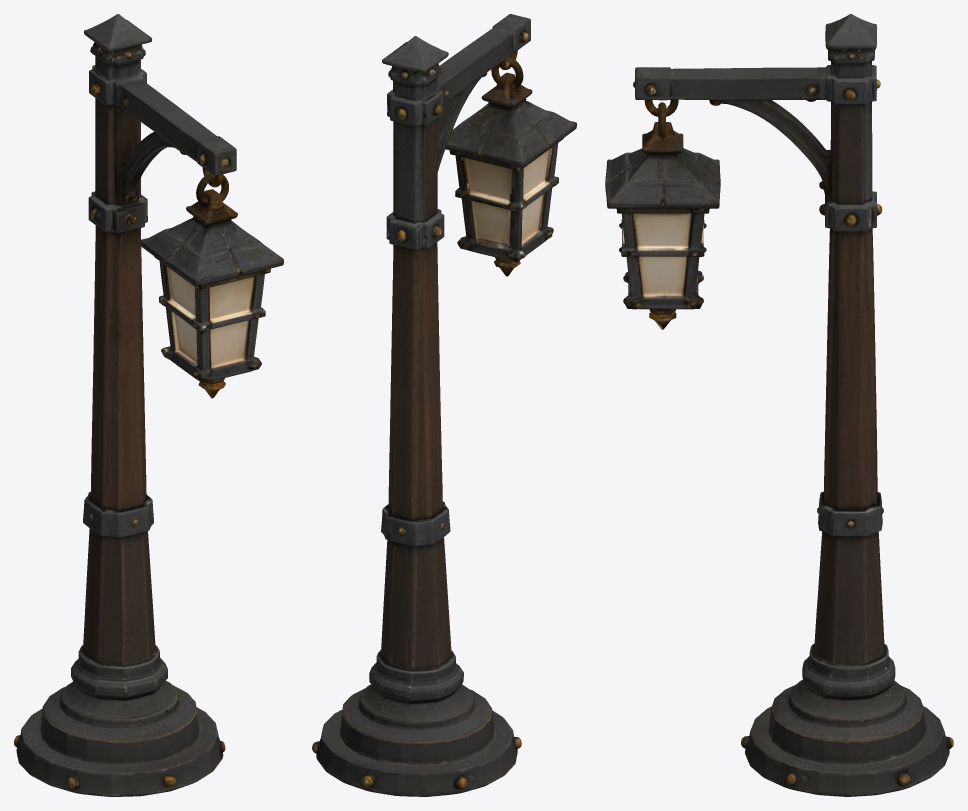
File: lamp.glb
3 views of the same model, side by side, from view 1: azimuth 30°, elevation 25°; view 2: azimuth 150°, elevation 25°; view 3: azimuth 270°, elevation 25° (orthographic). The views are drawn at different scales.
Visible parts, largest first — view 1: node_0; view 2: node_0; view 3: node_0.
Part boxes in pixels (<box>): node_0: <box>14,14,283,796</box>; node_0: <box>312,14,576,796</box>; node_0: <box>605,14,953,796</box>.
Size of the model in its own units: 0.2825 by 1.11 by 0.4745.
1 material, 1 textured.
